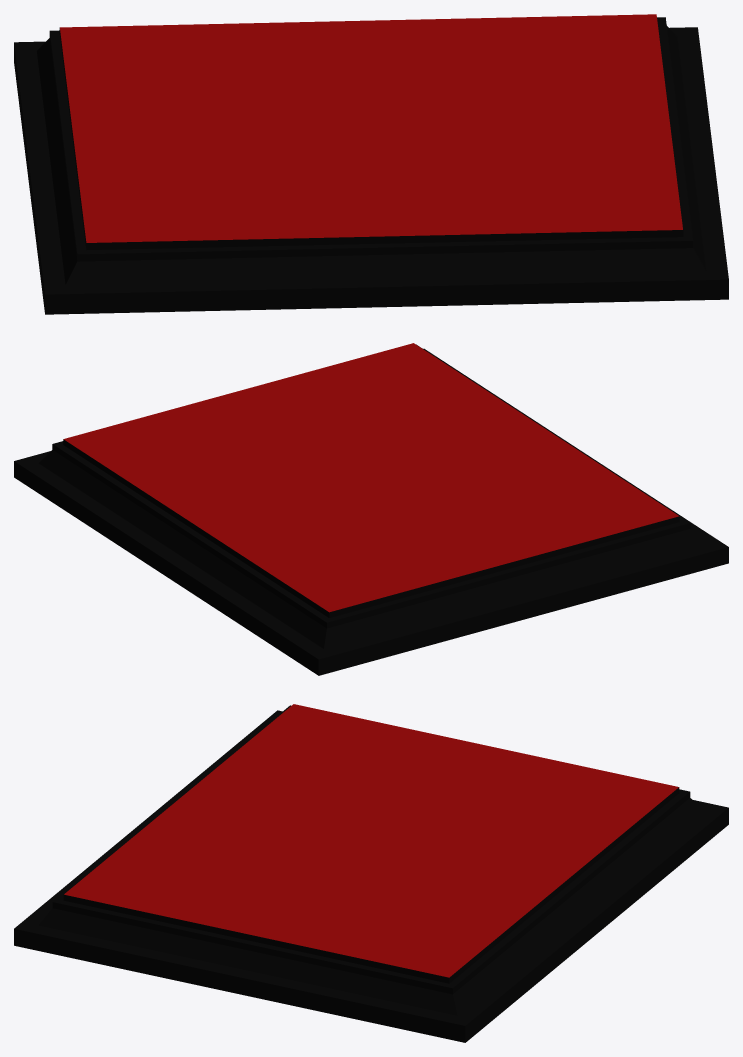
The model's file is ChessTable.FBX.
The picture shows the model from 3 angles, top to bottom: view 1: azimuth 30°, elevation 25°; view 2: azimuth 150°, elevation 25°; view 3: azimuth 270°, elevation 25°; orthographic projection. The views are drawn at different scales.
Parts seen in each view (by area): view 1: Box066; view 2: Box066; view 3: Box066.
Boxes of the visible parts, x1,y1,x2,y2 form: Box066: [14, 14, 728, 314]; Box066: [14, 343, 728, 675]; Box066: [14, 704, 728, 1042].
Bounding box in the file's own units: 25.25 × 1.65 × 24.17.
